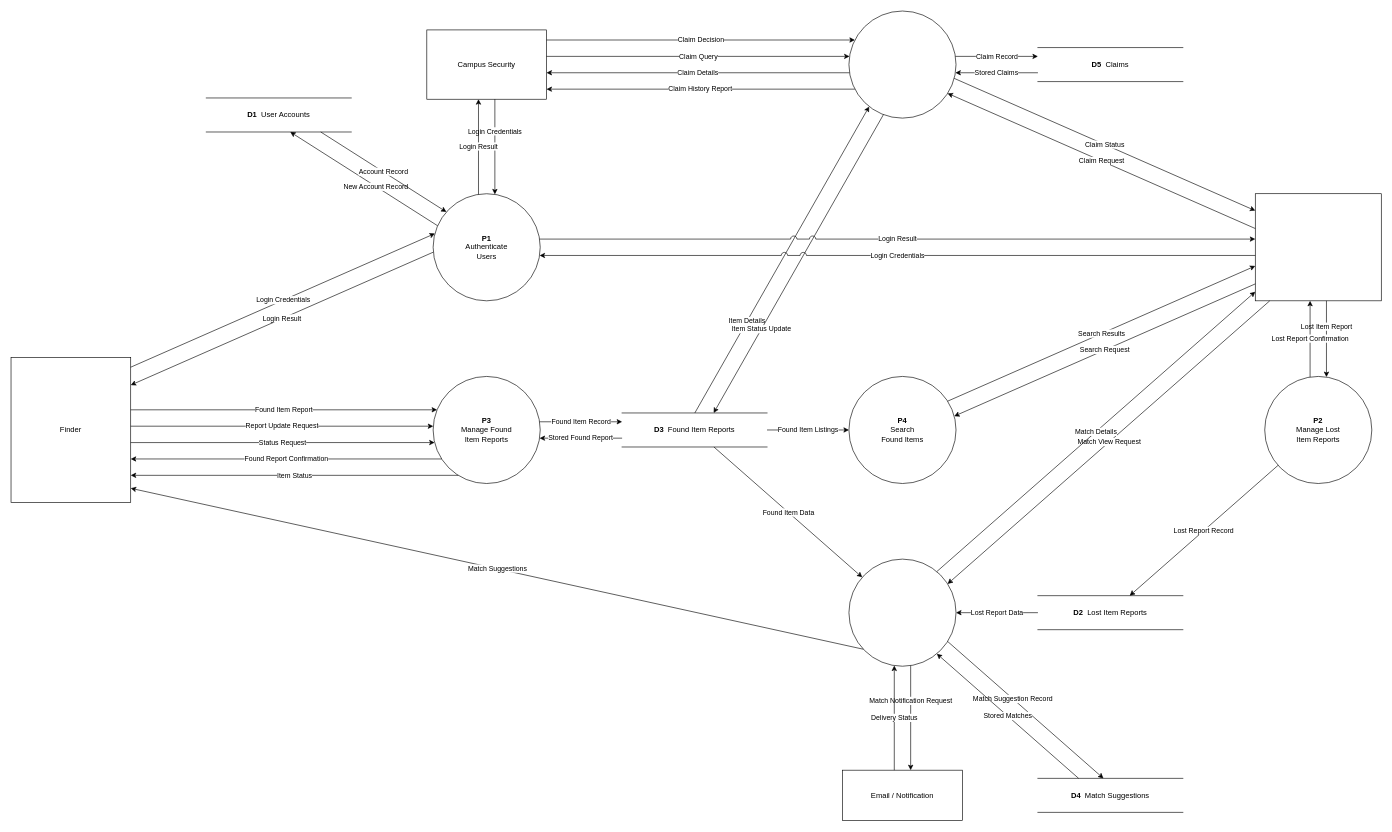
Some shapes in this 1392 by 832 pixel diagram are drawn without their labels. The centre of each missing label's shape, as x and y in pixels:
Item Owner: (x=1318, y=247)
P5 Match Items and Notify Owners: (x=902, y=612)
P6 Process and Decide Claims: (x=902, y=64)
